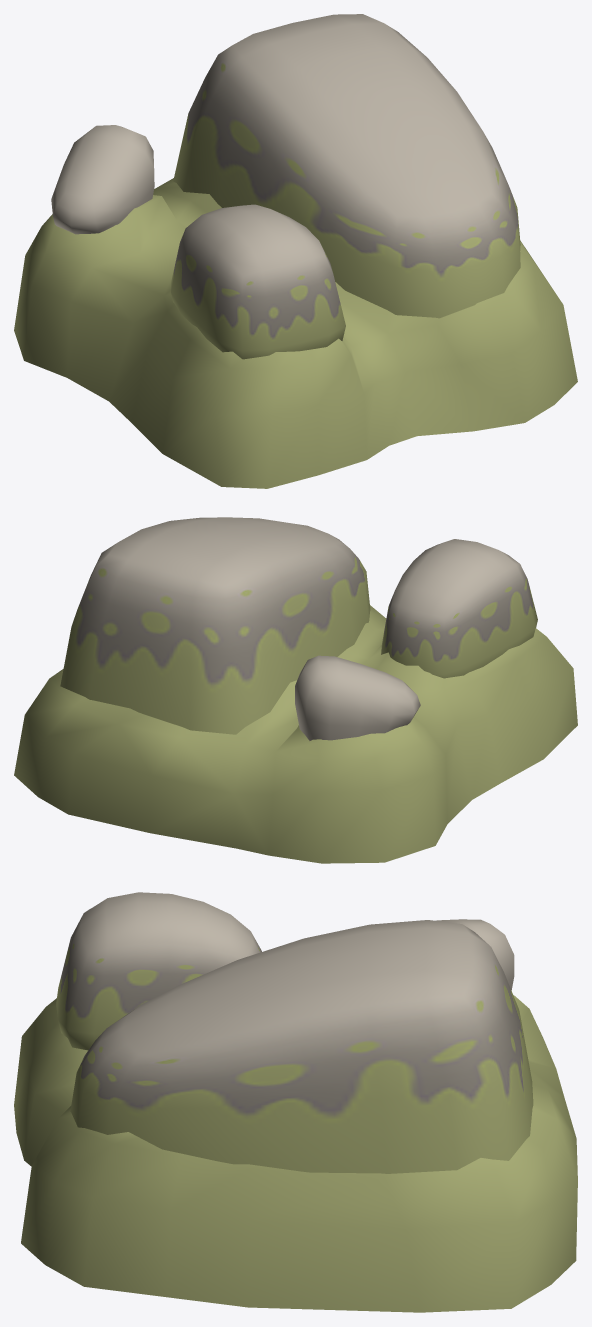
Rendered from rock_1x1_a.glb.
3 views of the same model, one above another, from view 1: azimuth 30°, elevation 25°; view 2: azimuth 150°, elevation 25°; view 3: azimuth 270°, elevation 25° (orthographic). The views are drawn at different scales.
Parts seen in each view (by area): view 1: rock_1x1_a; view 2: rock_1x1_a; view 3: rock_1x1_a.
Part boxes in pixels (x1,y1,x2,y2): rock_1x1_a: (14,14,577,488); rock_1x1_a: (14,517,577,863); rock_1x1_a: (14,892,577,1312).
Bounding box in the file's own units: 0.7741 × 0.4344 × 0.7864.
1 material, 1 textured.
